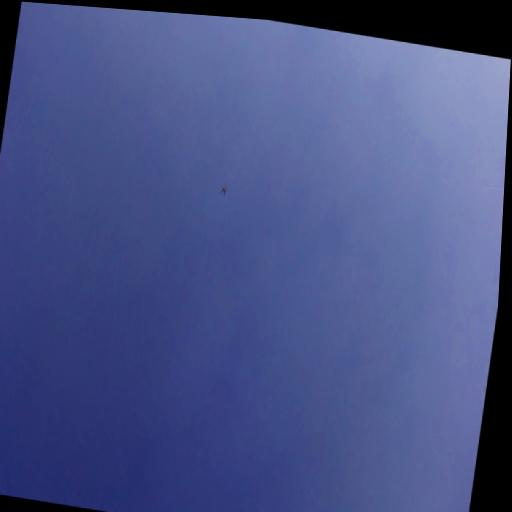drones: (219, 180, 229, 200)
